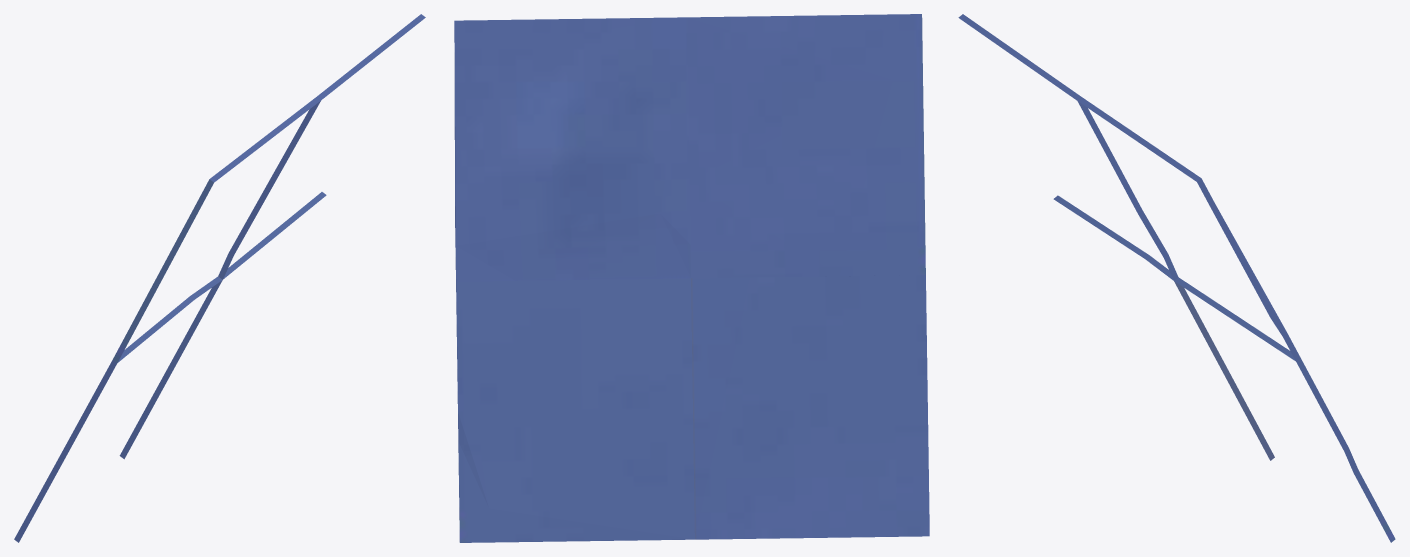
3 views of the same model, side by side, from view 1: azimuth 30°, elevation 25°; view 2: azimuth 150°, elevation 25°; view 3: azimuth 270°, elevation 25° (orthographic). The views are drawn at different scales.
Bounding box in the file's own units: 19668 × 17671 × 16906.
1 material, 1 textured.
